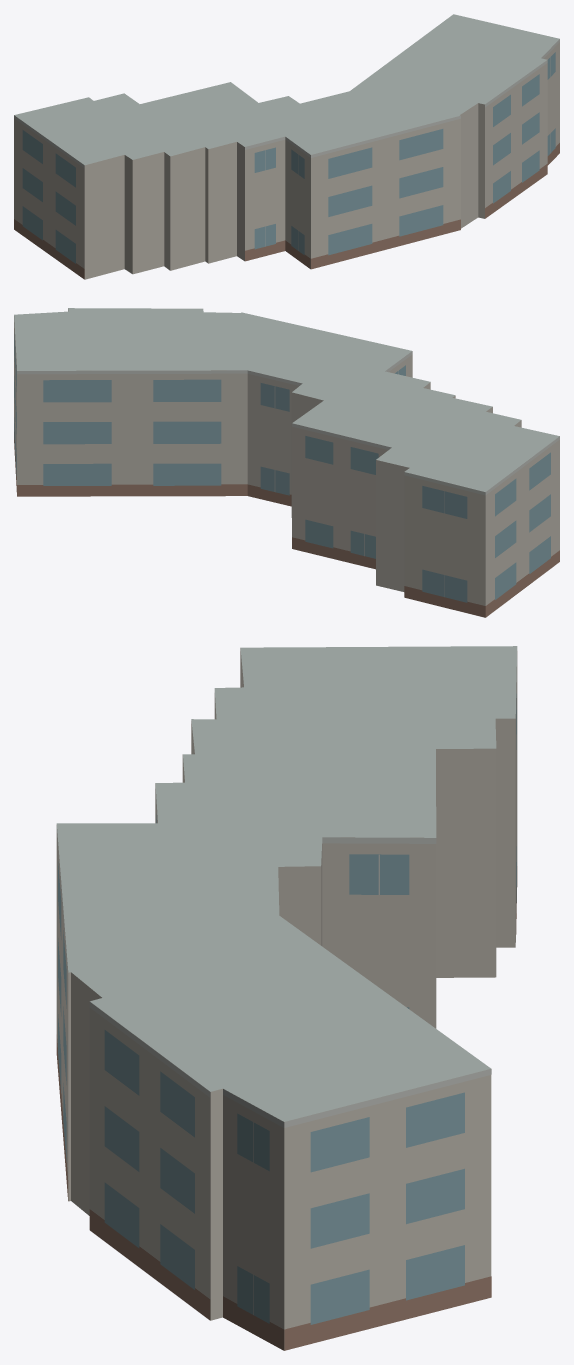
File: survey-upis-32917120.glb
3 renders of one model, top to bottom at view 1: azimuth 30°, elevation 25°; view 2: azimuth 150°, elevation 25°; view 3: azimuth 270°, elevation 25°, orthographic. The views are drawn at different scales.
Visible parts, largest first — view 1: survey-upis-32917120.tmp; view 2: survey-upis-32917120.tmp; view 3: survey-upis-32917120.tmp.
Part boxes in pixels (x1,y1,x2,y2): survey-upis-32917120.tmp: (14,14,559,279); survey-upis-32917120.tmp: (14,308,559,617); survey-upis-32917120.tmp: (56,646,517,1350).
Size of the model in its own units: 40.82 by 9.15 by 16.7.
